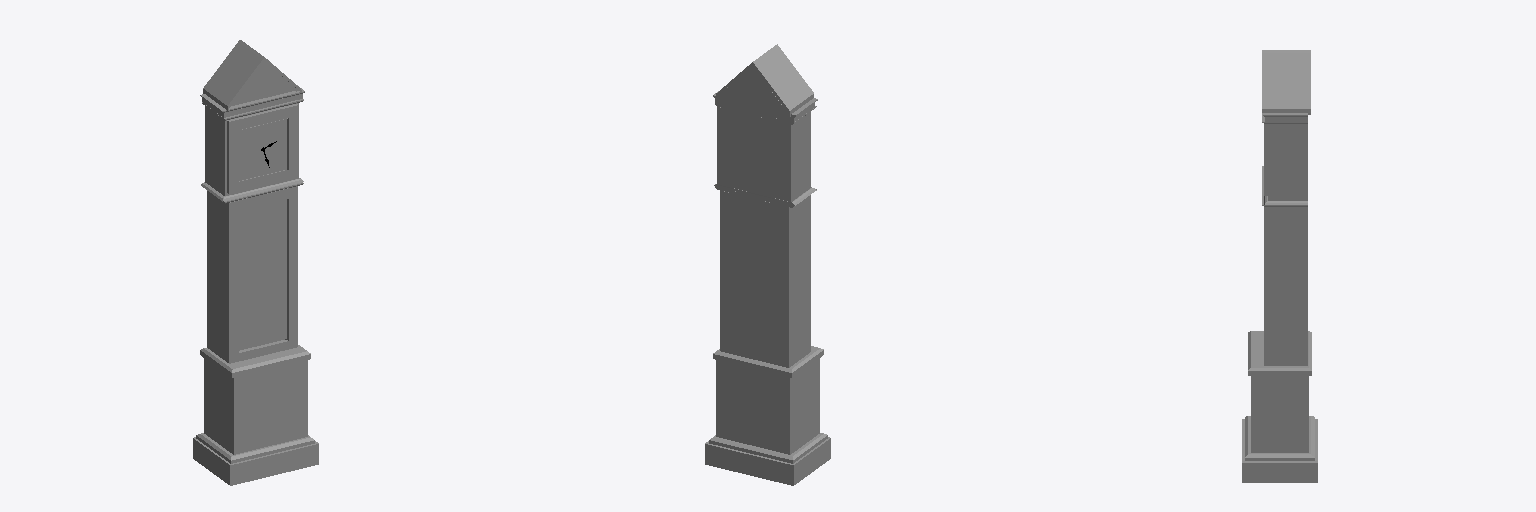
Rendered from Nowy.obj.
3 renders of one model, left to right at view 1: azimuth 30°, elevation 25°; view 2: azimuth 150°, elevation 25°; view 3: azimuth 270°, elevation 25°, orthographic.
Parts seen in each view (by area): view 1: Lower_Case_Lower_Case, Front_Door_GlassFront, Front_Door_Front_Door_Front_Door, Cube.001, Pendulum_Case_Pendulum_Side_Case_R, ClockFaceDoor_Front_Door_Front_Door, ClockFaceDoor_GlassFront, Head_Case_Head_Case, Lower_Case_Lower_Case_Top, Lower_Case_Lower_Case_Bottom; view 2: Lower_Case_Lower_Case, Pendulum_Case_Pendulum_Case_Back, Head_Case_Head_Case, Cube.001, Pendulum_Case_Pendulum_Side_Case_R, Lower_Case_Lower_Case_Top, Lower_Case_Lower_Case_Bottom, Pendulum_Case_Pendulum_Side_Case_L; view 3: Pendulum_Case_Pendulum_Side_Case_L, Lower_Case_Lower_Case, Cube.001, Head_Case_Head_Case, Lower_Case_Lower_Case_Top, Lower_Case_Lower_Case_Bottom.
Part boxes in pixels (x1,y1,x2,y2): Lower_Case_Lower_Case: (193, 358, 318, 485); Front_Door_GlassFront: (239, 199, 286, 350); Front_Door_Front_Door_Front_Door: (227, 186, 297, 363); Cube.001: (203, 40, 301, 110); Pendulum_Case_Pendulum_Side_Case_R: (207, 191, 226, 361); ClockFaceDoor_Front_Door_Front_Door: (227, 104, 297, 193); ClockFaceDoor_GlassFront: (239, 119, 286, 180); Head_Case_Head_Case: (205, 103, 298, 195); Lower_Case_Lower_Case_Top: (200, 340, 310, 377); Lower_Case_Lower_Case_Bottom: (196, 433, 314, 463); Lower_Case_Lower_Case: (705, 358, 830, 485); Pendulum_Case_Pendulum_Case_Back: (724, 191, 784, 366); Head_Case_Head_Case: (717, 107, 810, 201); Cube.001: (716, 44, 813, 116); Pendulum_Case_Pendulum_Side_Case_R: (785, 196, 808, 367); Lower_Case_Lower_Case_Top: (713, 346, 823, 377); Lower_Case_Lower_Case_Bottom: (709, 433, 827, 463); Pendulum_Case_Pendulum_Side_Case_L: (720, 191, 723, 351); Pendulum_Case_Pendulum_Side_Case_L: (1264, 207, 1307, 365); Lower_Case_Lower_Case: (1242, 376, 1317, 482); Cube.001: (1262, 50, 1310, 114); Head_Case_Head_Case: (1268, 124, 1307, 200); Lower_Case_Lower_Case_Top: (1248, 331, 1311, 375); Lower_Case_Lower_Case_Bottom: (1245, 416, 1314, 460).
Bounding box in the file's own units: 18 × 79.49 × 13.25.